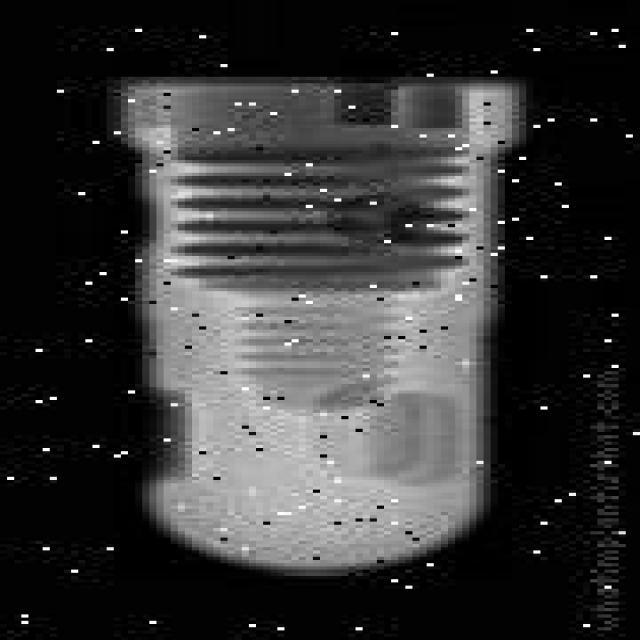Root canal obturation: (114, 80, 533, 573)
